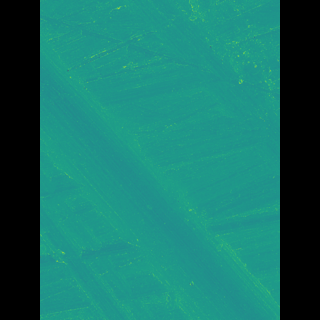Loch: (69, 44, 251, 316), (136, 0, 250, 186), (195, 16, 248, 125)
